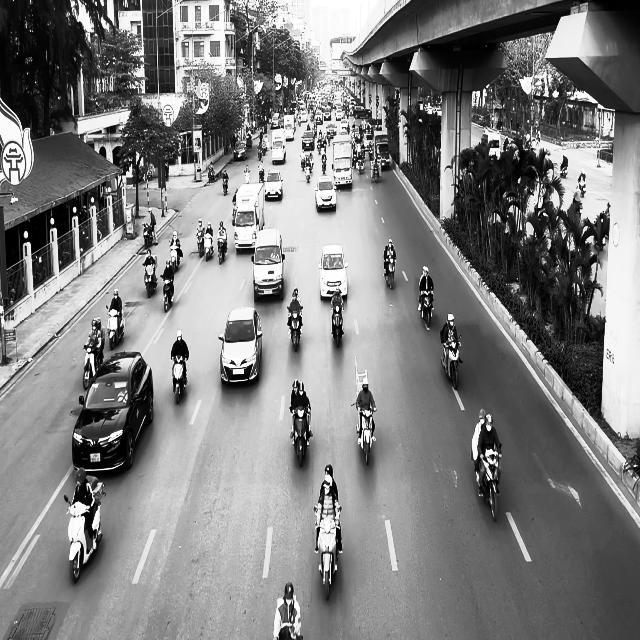car: (71, 350, 154, 474), (218, 306, 263, 384), (250, 228, 284, 301), (318, 243, 348, 300), (315, 176, 336, 212), (264, 170, 284, 200), (233, 140, 247, 160)
motorbike: (64, 484, 105, 584), (314, 504, 342, 600), (477, 448, 501, 522), (82, 331, 105, 389), (355, 403, 376, 465), (290, 405, 310, 467), (440, 333, 462, 389), (105, 304, 125, 350), (171, 355, 188, 404), (287, 305, 303, 350), (142, 256, 157, 298), (418, 289, 433, 330), (331, 305, 344, 347), (161, 273, 174, 312), (383, 257, 396, 289), (217, 236, 227, 264), (170, 242, 180, 270), (204, 233, 213, 261), (143, 223, 153, 248), (197, 232, 204, 256), (222, 175, 228, 195)
